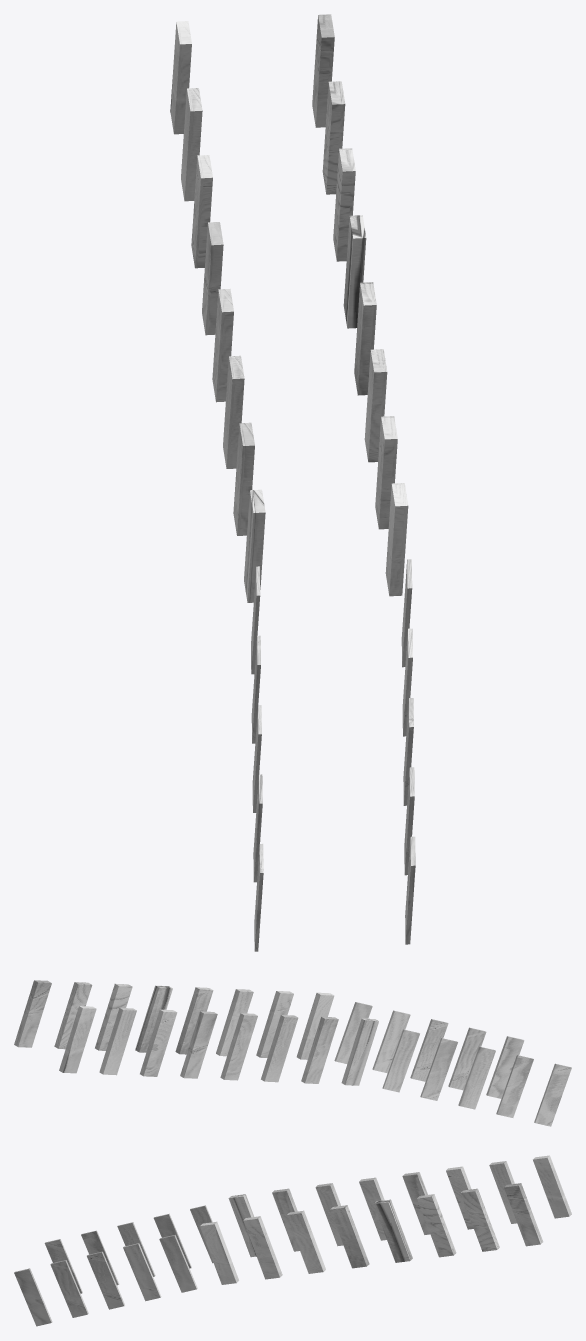
The model's file is cube.094_lev3.glb.
3 renders of one model, top to bottom at view 1: azimuth 30°, elevation 25°; view 2: azimuth 150°, elevation 25°; view 3: azimuth 270°, elevation 25°, orthographic. The views are drawn at different scales.
Parts seen in each view (by area): view 1: cube.094_lev3; view 2: cube.094_lev3; view 3: cube.094_lev3.
Boxes of the visible parts, x1,y1,x2,y2 form: cube.094_lev3: [170, 14, 415, 951]; cube.094_lev3: [14, 980, 571, 1126]; cube.094_lev3: [14, 1155, 571, 1326].
Size of the model in its own units: 1.86 by 1.52 by 3.21.
Materials: 1 (1 with a texture image).
